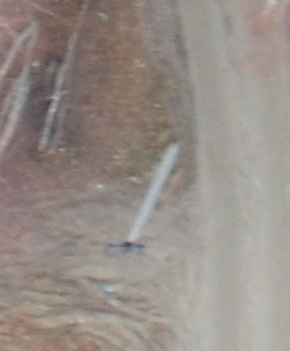opora: (103, 142, 184, 258)
